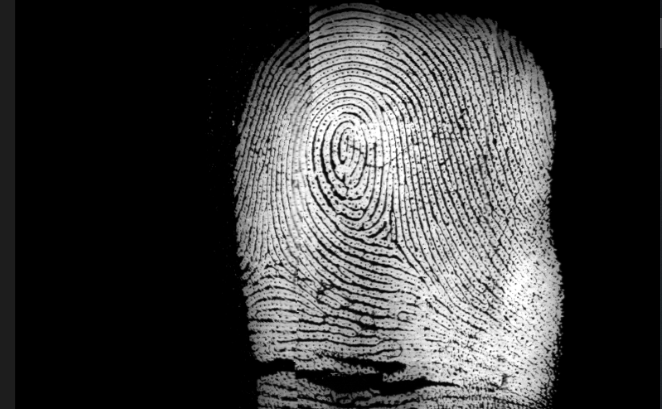nucelo: (326, 120, 364, 177)
verticilo: (251, 243, 288, 276), (375, 223, 402, 250)
